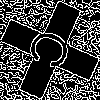C: (25, 25, 82, 77)
